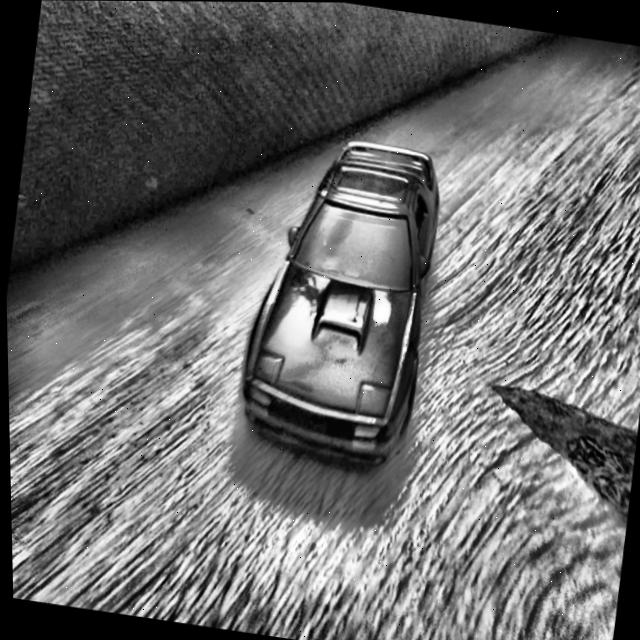car: (226, 125, 452, 473)
